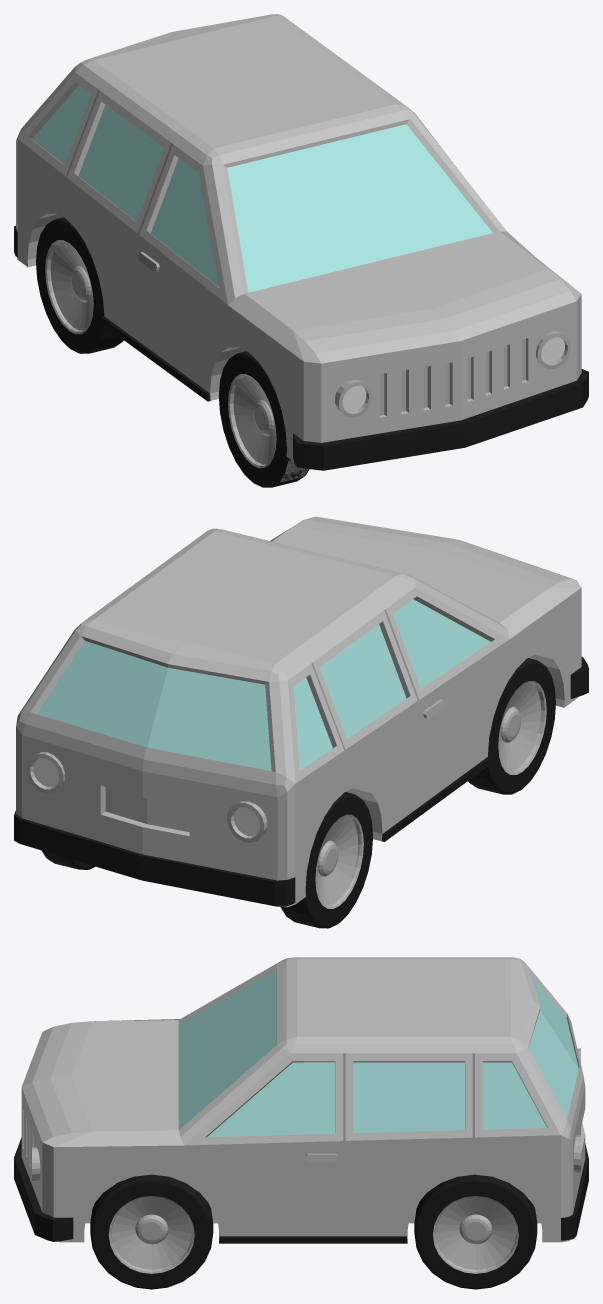
File: Car02.fbx
3 renders of one model, top to bottom at view 1: azimuth 30°, elevation 25°; view 2: azimuth 150°, elevation 25°; view 3: azimuth 270°, elevation 25°, orthographic. The views are drawn at different scales.
Parts seen in each view (by area): view 1: CarBody.002, FrontBumper, Lights.001; view 2: CarBody.002, BackBumper, Lights.001, FrontBumper; view 3: CarBody.002, FrontBumper, BackBumper, Lights.001.
Boxes of the visible parts, x1,y1,x2,y2 form: CarBody.002: (16, 14, 581, 487); FrontBumper: (293, 369, 588, 470); Lights.001: (335, 331, 570, 417); CarBody.002: (16, 516, 581, 928); BackBumper: (14, 811, 295, 906); Lights.001: (26, 752, 267, 842); FrontBumper: (570, 656, 588, 698); CarBody.002: (21, 957, 585, 1289); FrontBumper: (14, 1137, 73, 1241); BackBumper: (561, 1143, 588, 1240); Lights.001: (31, 1048, 580, 1181).
Bounding box in the file's own units: 158 × 136 × 304.
